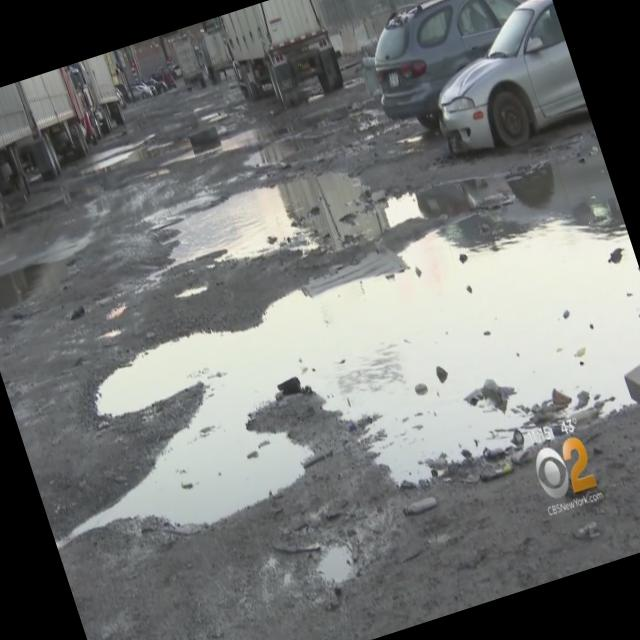Potholes: (6, 182, 640, 588), (140, 54, 628, 374), (150, 92, 296, 192), (0, 201, 94, 348)
